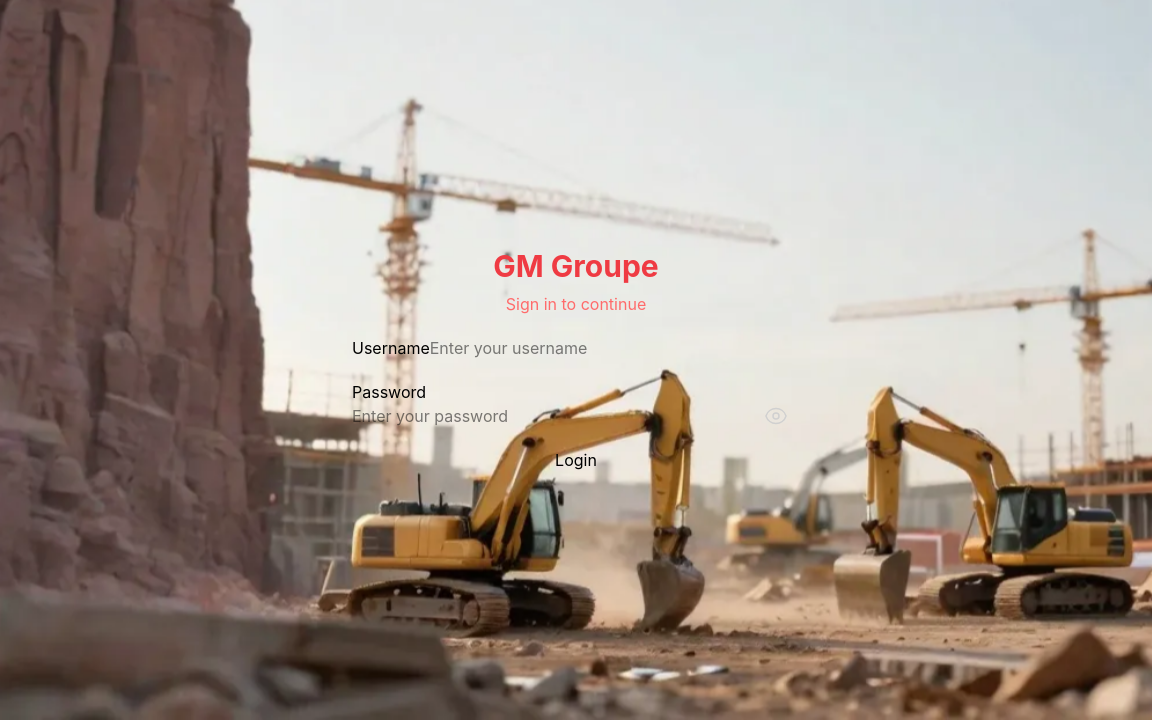
Test: Login › shows error on failed login
Type "bad" into the field with placeholder "Enter your username" at (554, 348), box [430,336,678,360]
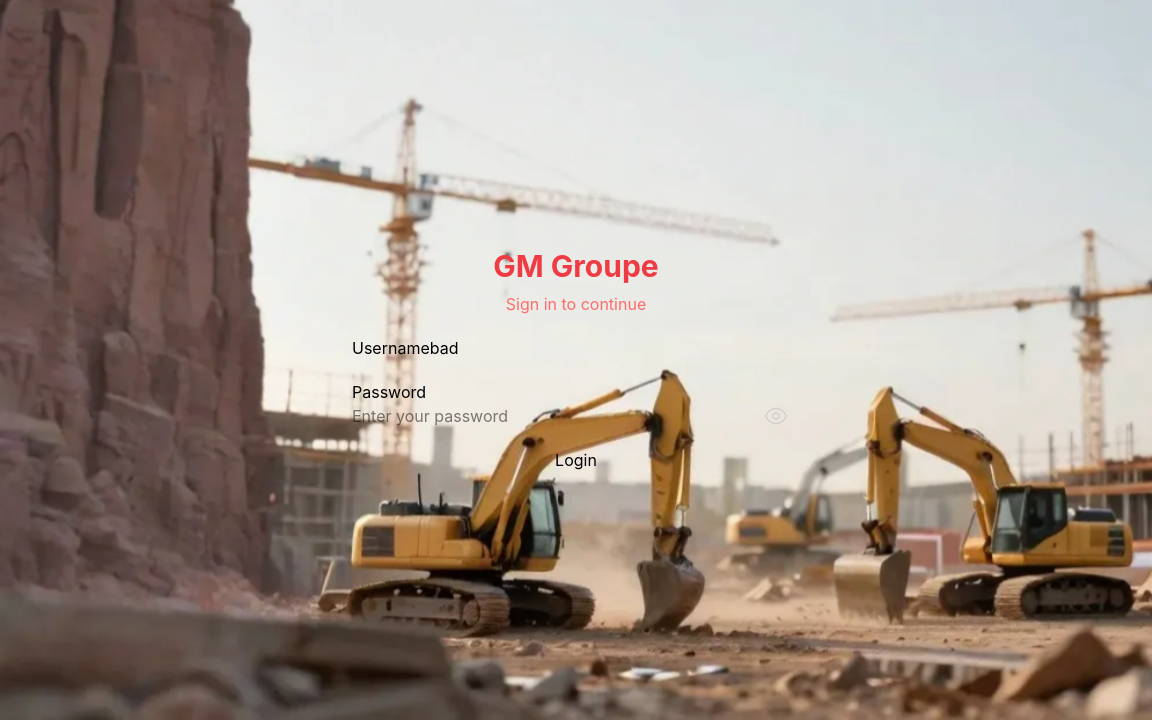
Type "bad" into the password field with placeholder "Enter your password" at (496, 416), box [352,404,640,428]
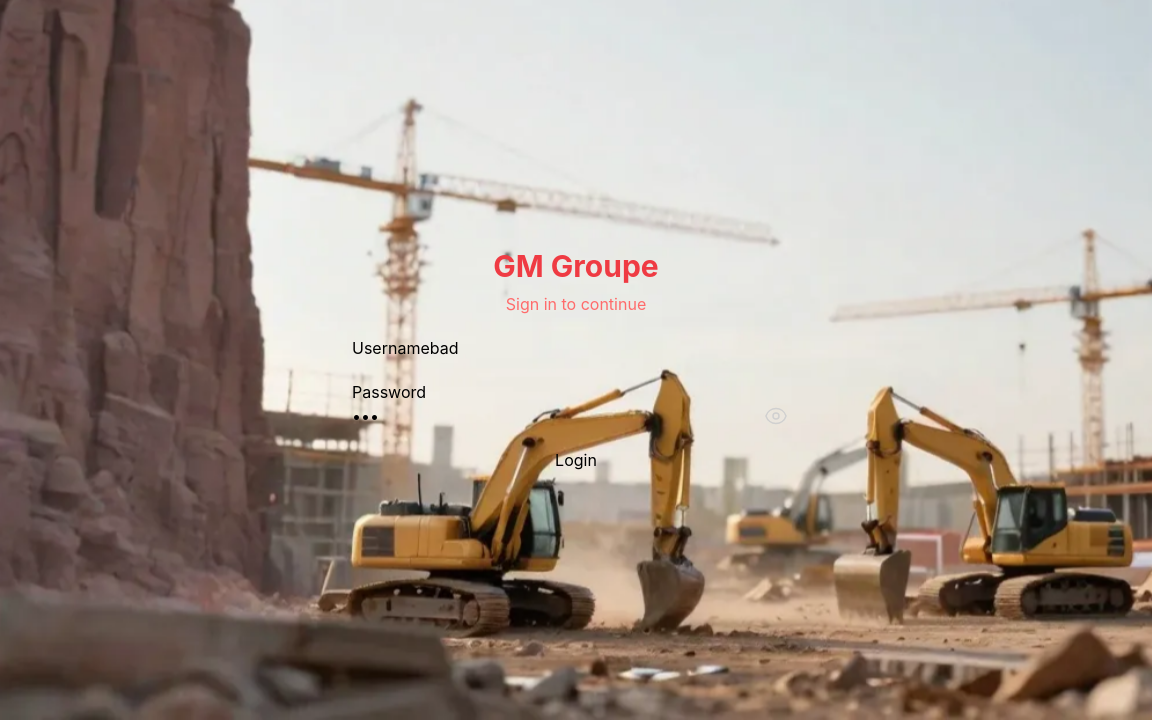
Click the button "Login" at (576, 460), box [352,448,800,472]
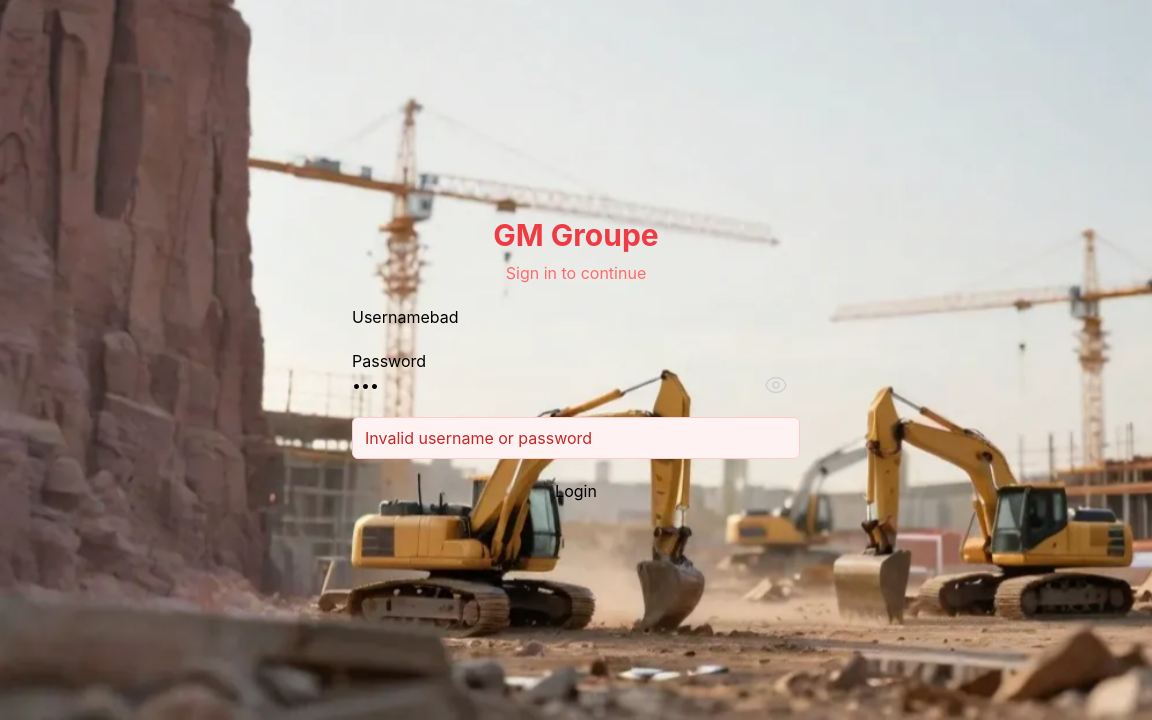
Expected: the text "Invalid username or password" is shown, [352,417,800,459]
